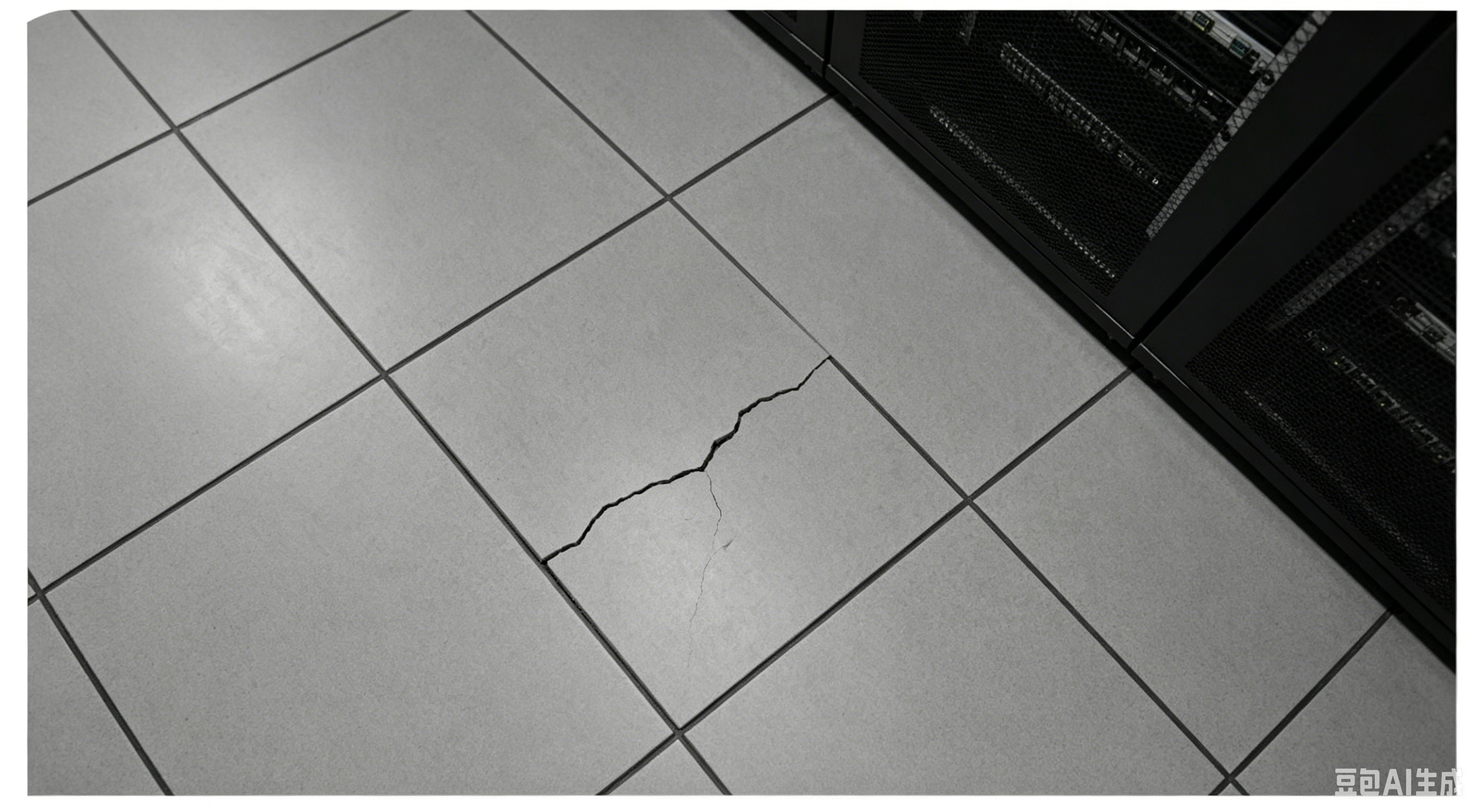floor_defect: (527, 502, 649, 565), (686, 505, 723, 705), (620, 450, 749, 500), (727, 355, 839, 400), (698, 403, 759, 446)
